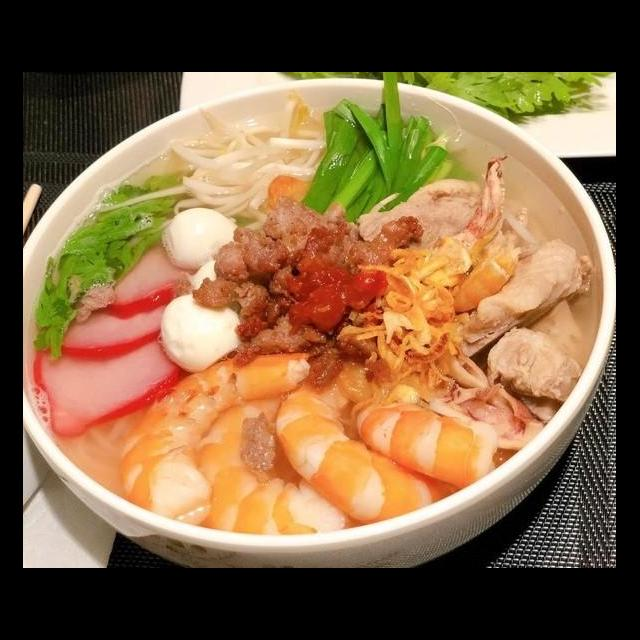thit heo: (30, 308, 192, 447), (350, 171, 514, 263), (70, 228, 210, 322), (49, 278, 184, 371), (474, 318, 586, 424)
tom: (112, 338, 318, 531), (272, 334, 440, 528), (186, 379, 358, 542), (346, 371, 509, 495)
trung: (158, 292, 254, 377), (158, 203, 248, 272)
